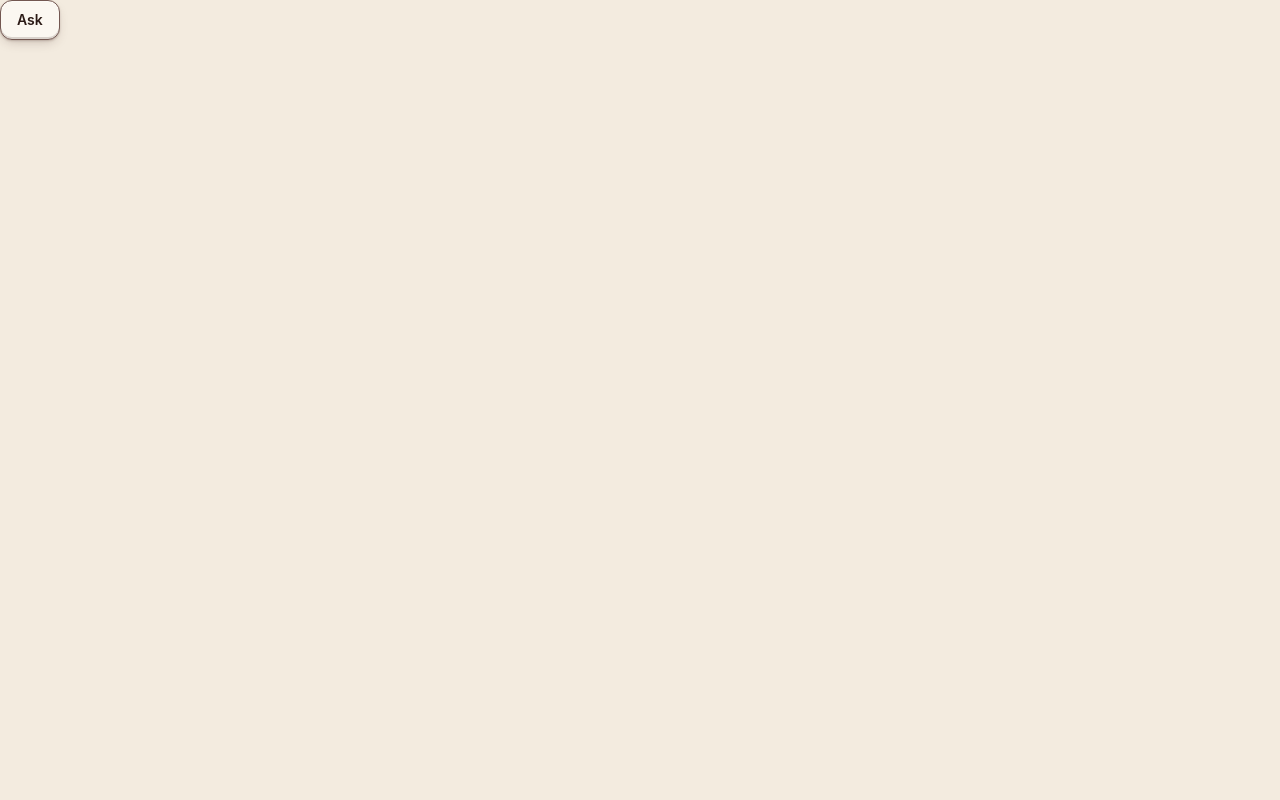
R3.20 Ask dialog › R3.20 a second question uses a fresh Idempotency-Key and the status is read again after each answer
Step 1. Click the button with test id "ask-available" → point(30, 20), box [0,0,60,40]
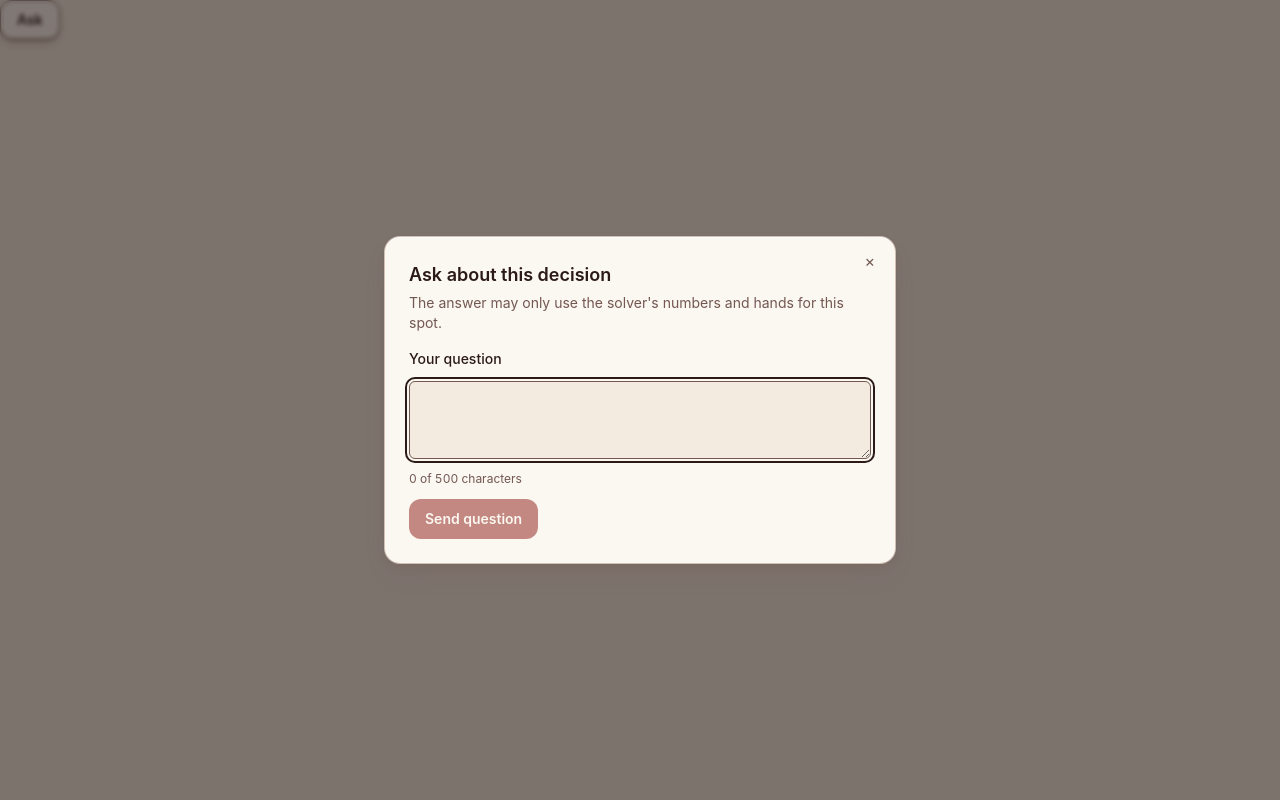
Step 2. Type "Why is raising better than calling?" into the text box labelled "Your question" → point(640, 420), box [409,381,871,459]
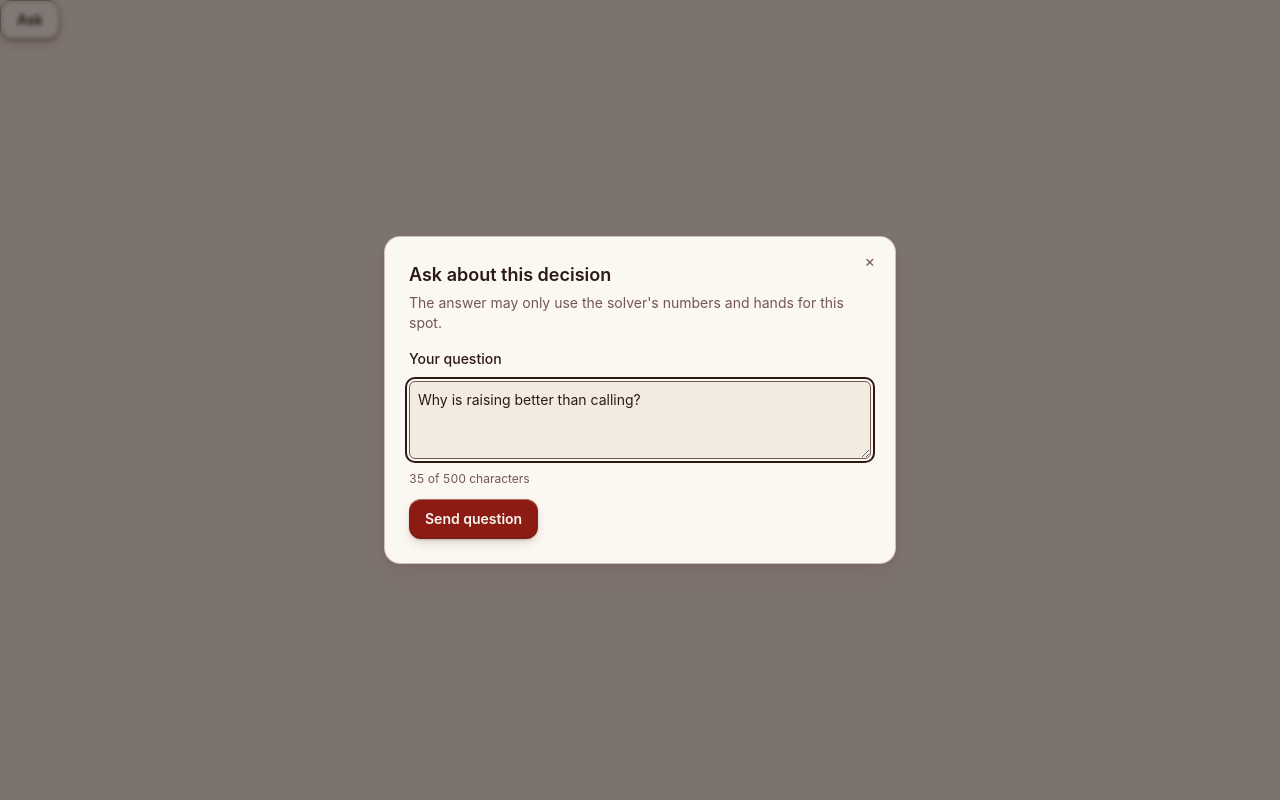
Step 3. Click the button "Send question" → point(474, 519), box [409,499,538,539]
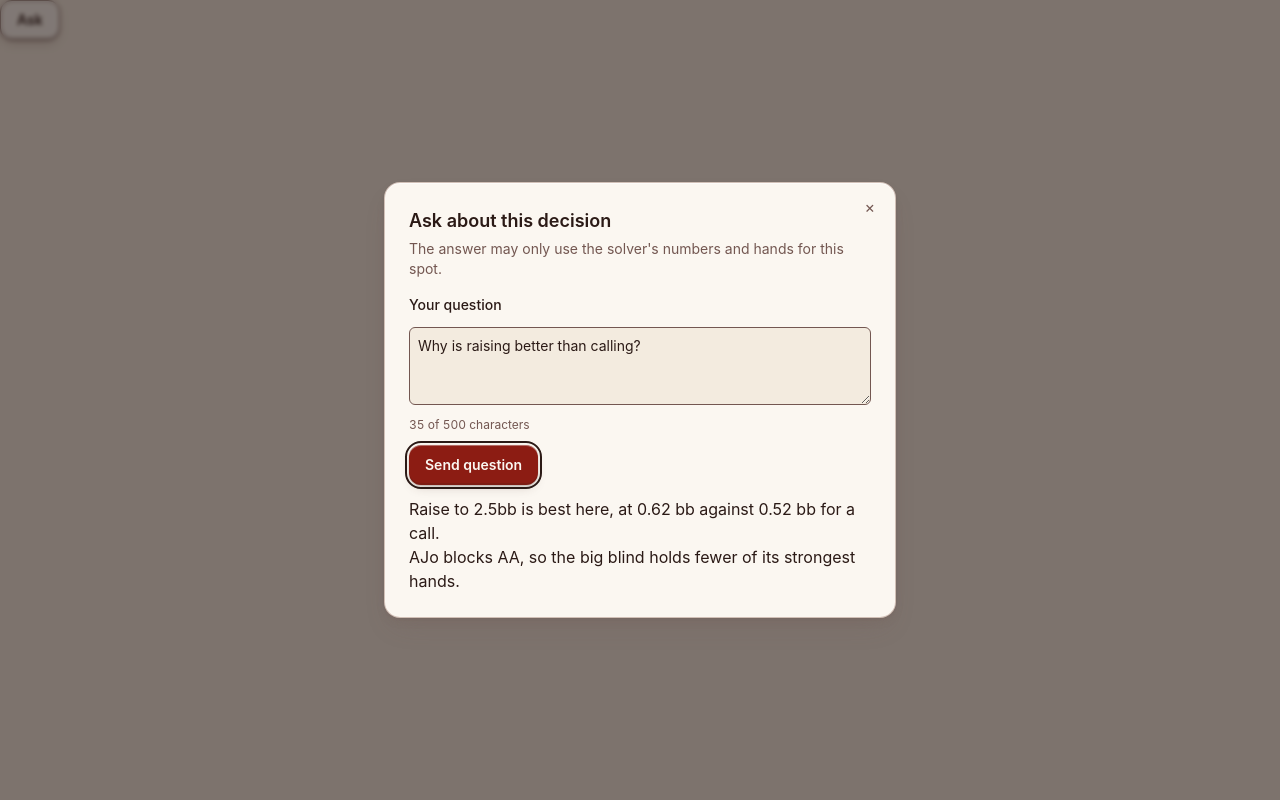
Check: the text with test id "ask-answer-text" is shown, box [409,497,871,593]
Step 4. Replace the text in the text box labelled "Your question" with "And calling?" → point(640, 366), box [409,327,871,405]
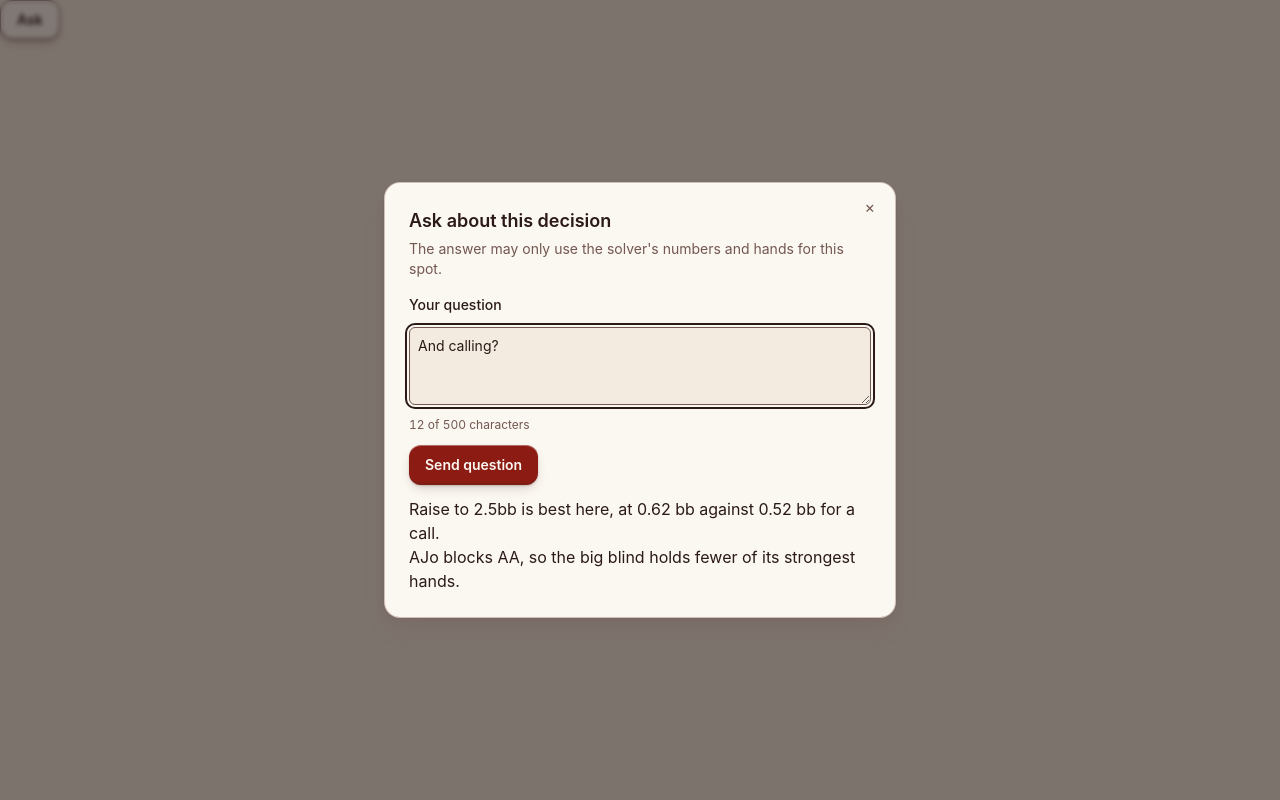
Step 5. Click the button "Send question" → point(474, 465), box [409,445,538,485]
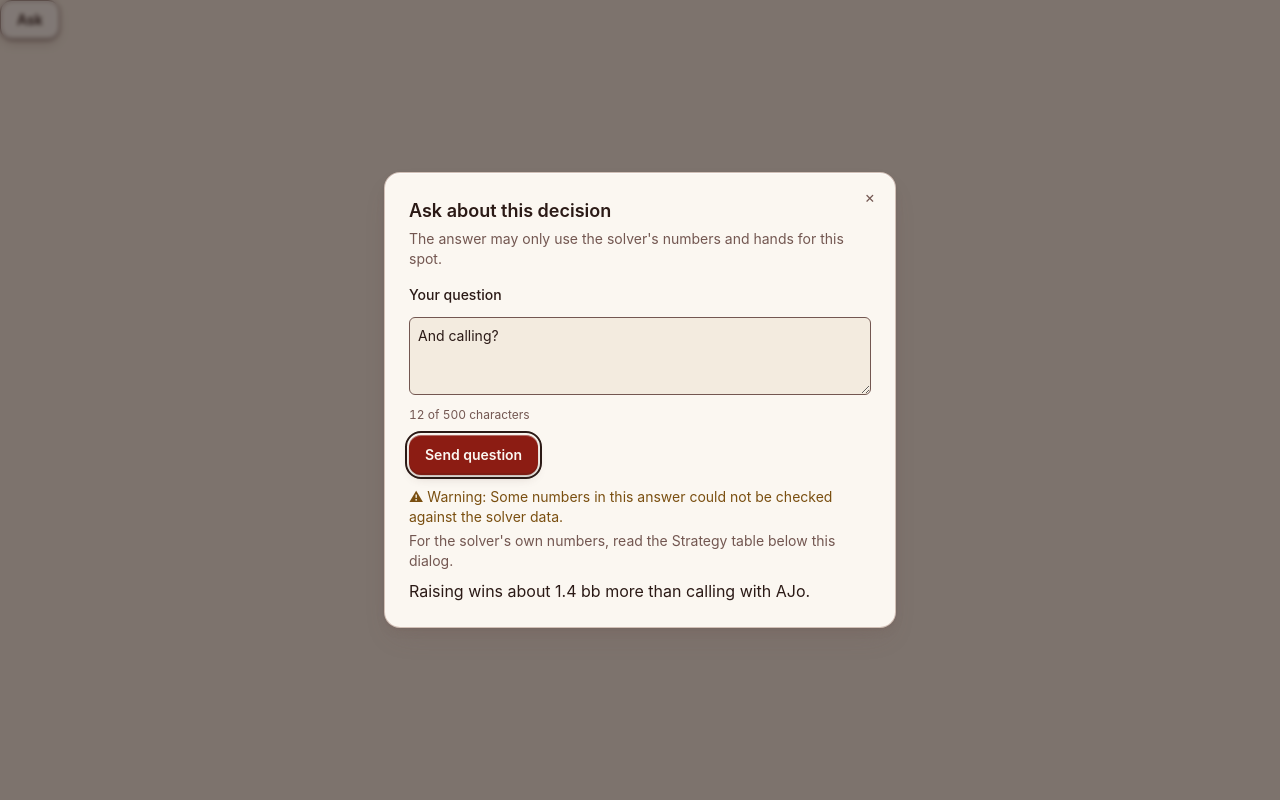
Check: the element with test id "ask-warning" is shown, box [409,487,871,527]
